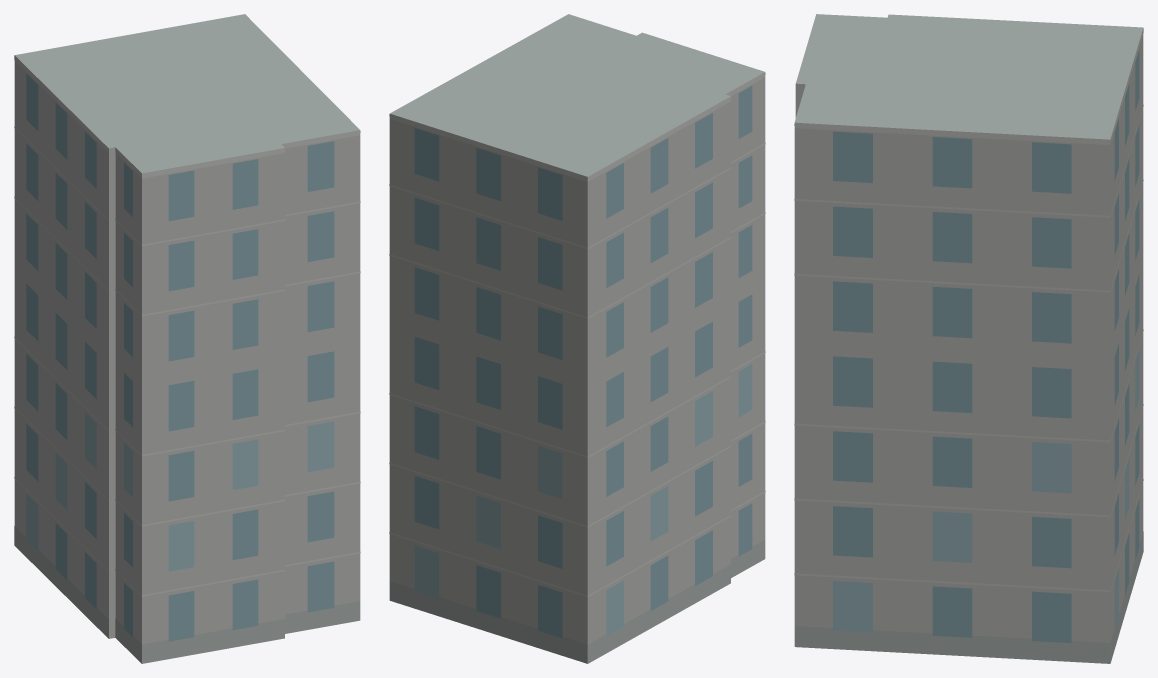
Rendered from survey-upis-32796257.glb.
3 views of the same model, side by side, from view 1: azimuth 30°, elevation 25°; view 2: azimuth 150°, elevation 25°; view 3: azimuth 270°, elevation 25° (orthographic). The views are drawn at different scales.
Parts seen in each view (by area): view 1: survey-upis-32796257.tmp; view 2: survey-upis-32796257.tmp; view 3: survey-upis-32796257.tmp.
Boxes of the visible parts, box(x1,y1,x2,y2) form: survey-upis-32796257.tmp: box(14, 14, 360, 663); survey-upis-32796257.tmp: box(389, 14, 765, 663); survey-upis-32796257.tmp: box(794, 14, 1143, 663).
Bounding box in the file's own units: 11.79 × 22.9 × 13.84.
